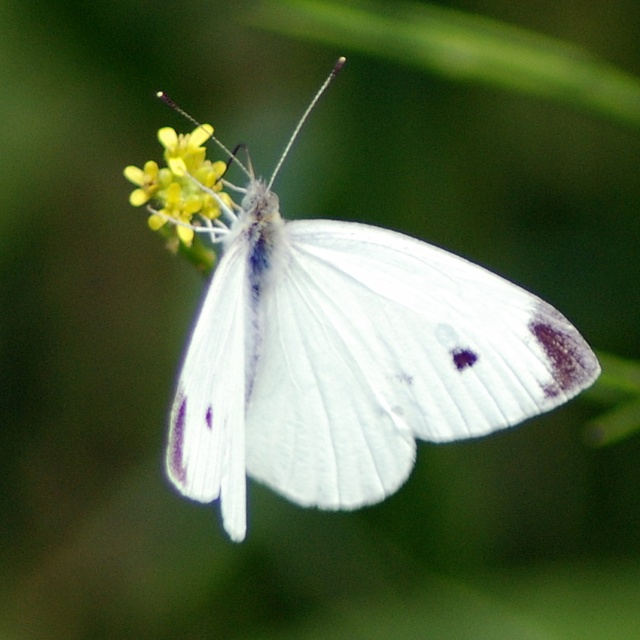Butterfly: (135, 42, 604, 531)
